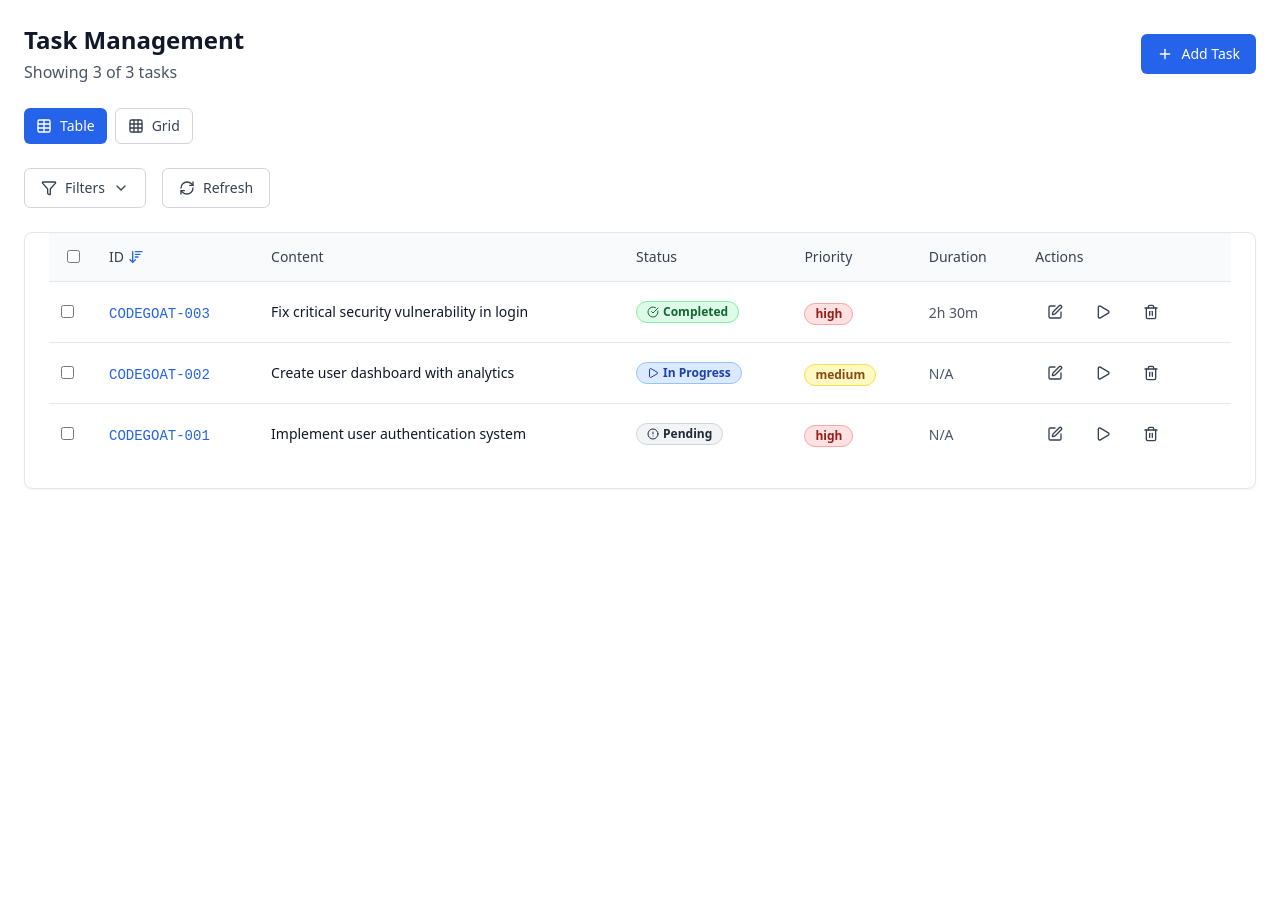
it: TaskManagement › Task Editing › opens edit form when edit button is clicked
Expected: the heading "Task Management" is shown, [24,24,244,56]
Expected: the text "CODEGOAT-001" is shown, [109,428,210,444]
Step 1. Click the button named "Edit task" → click(1055, 434), box [1035,416,1075,452]
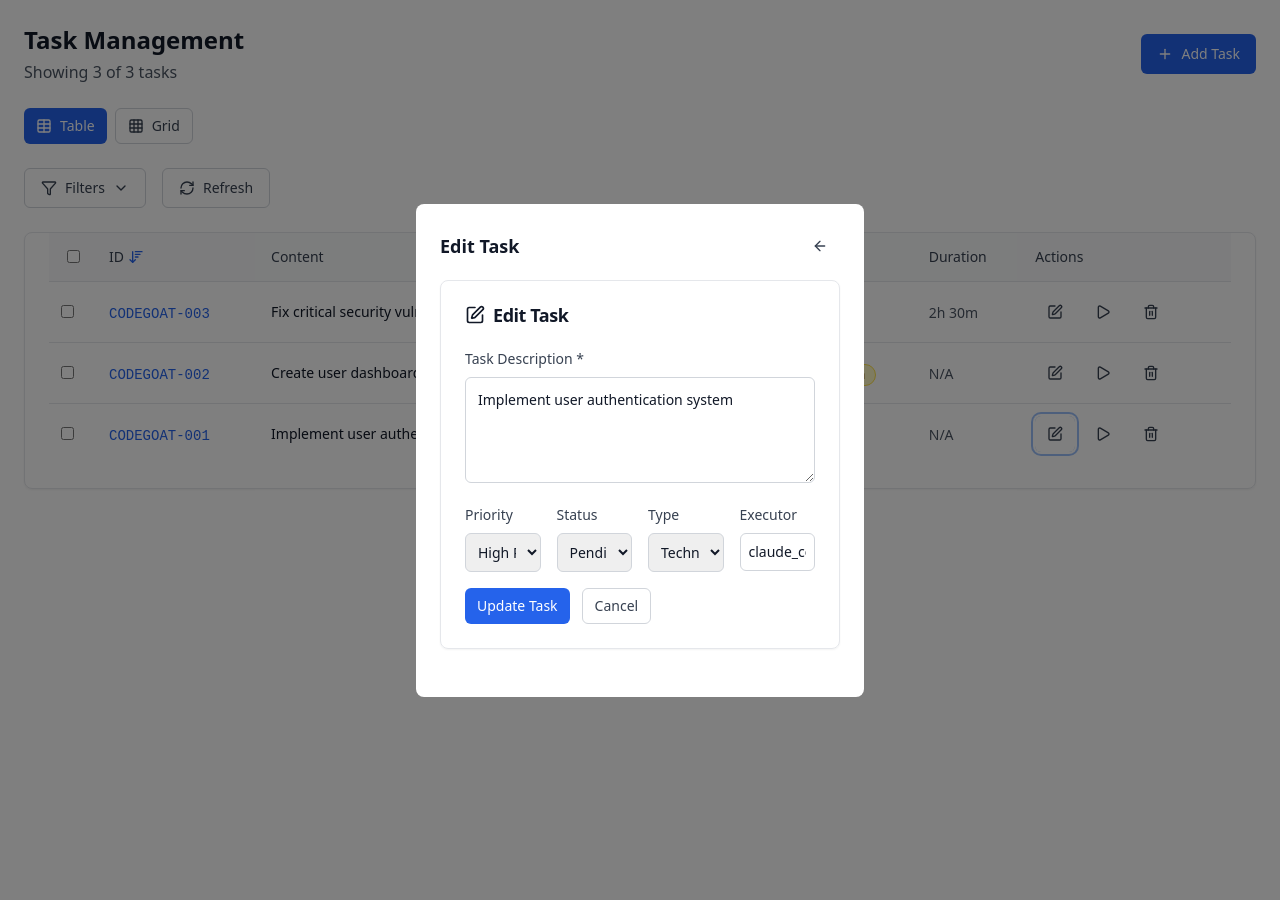
Now the 1st heading "Edit Task" is shown, box [440,232,519,260]
Now the text box labelled "Task Description *" is shown, box [465,376,815,482]
